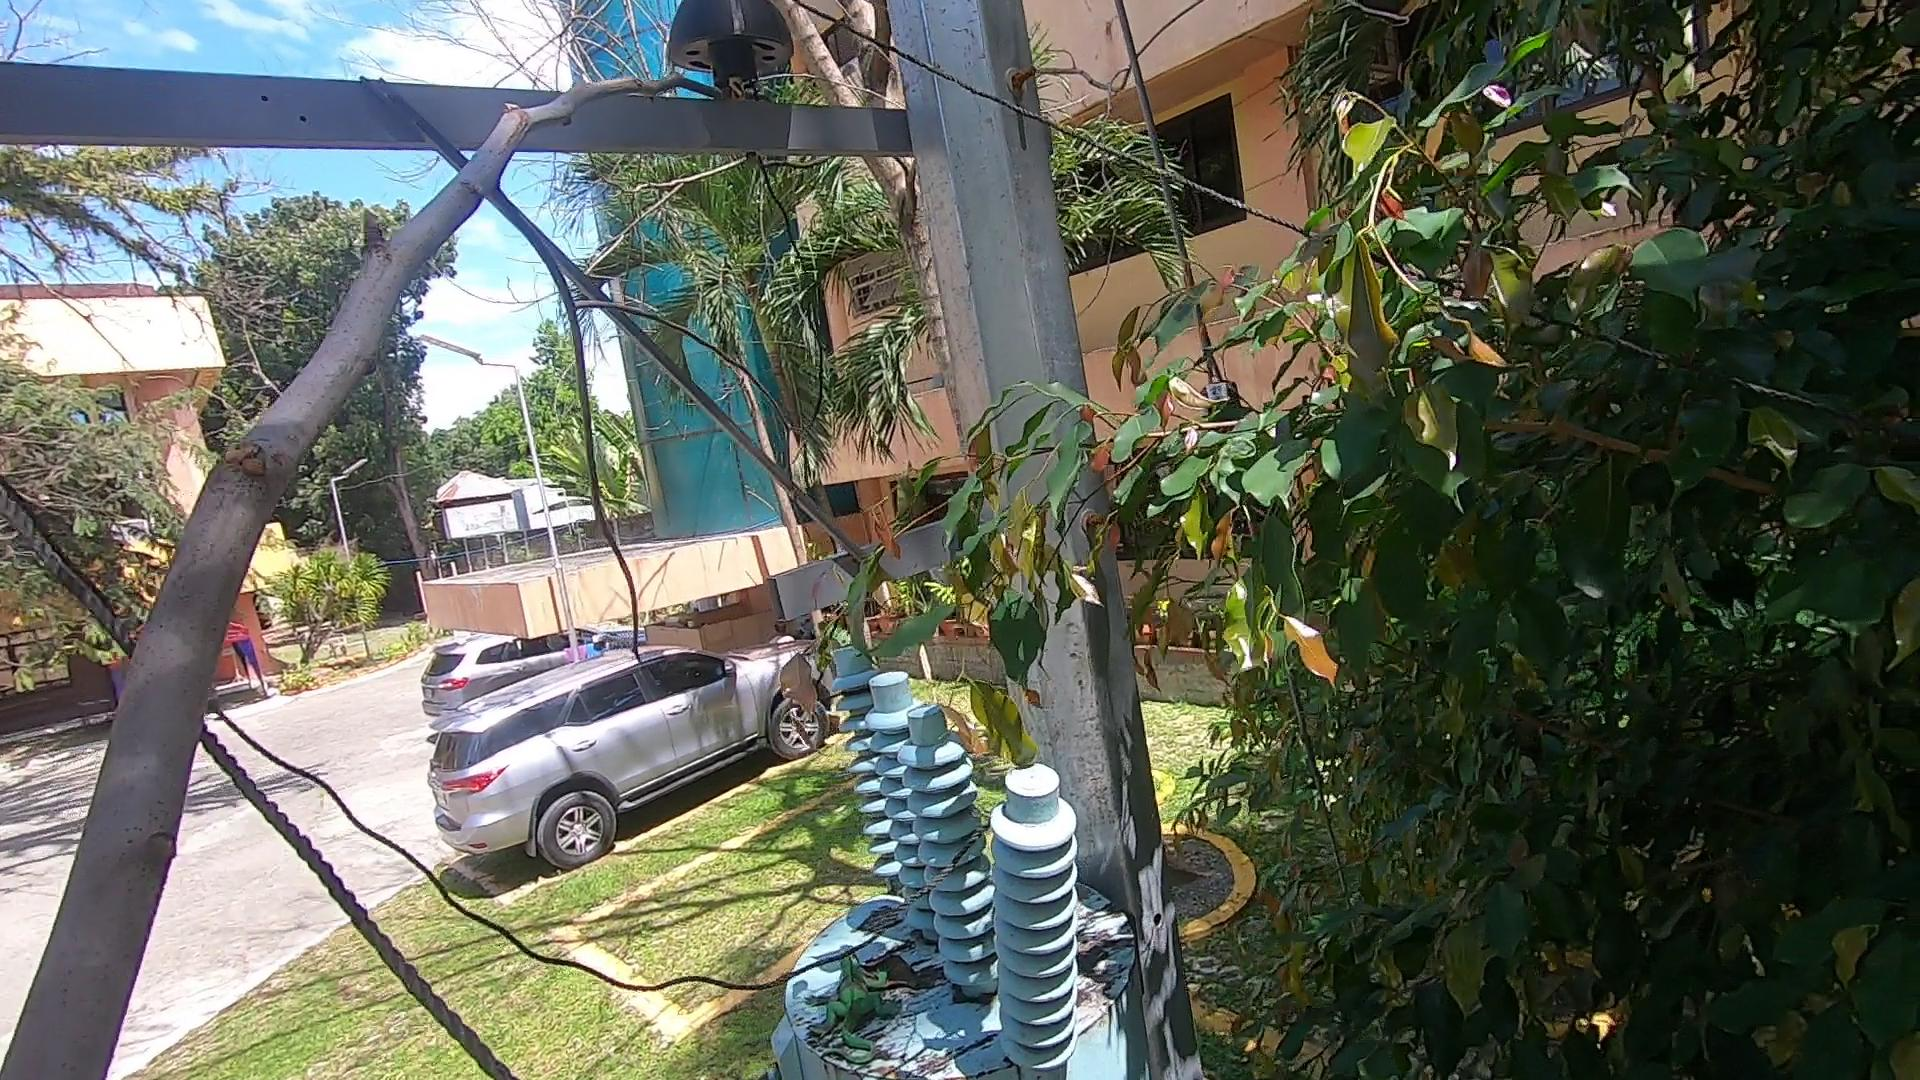branch with leaves: (793, 382, 1112, 853)
leaf: (851, 938, 935, 1007), (1077, 932, 1129, 1007)
tree branch: (3, 13, 716, 1069)
